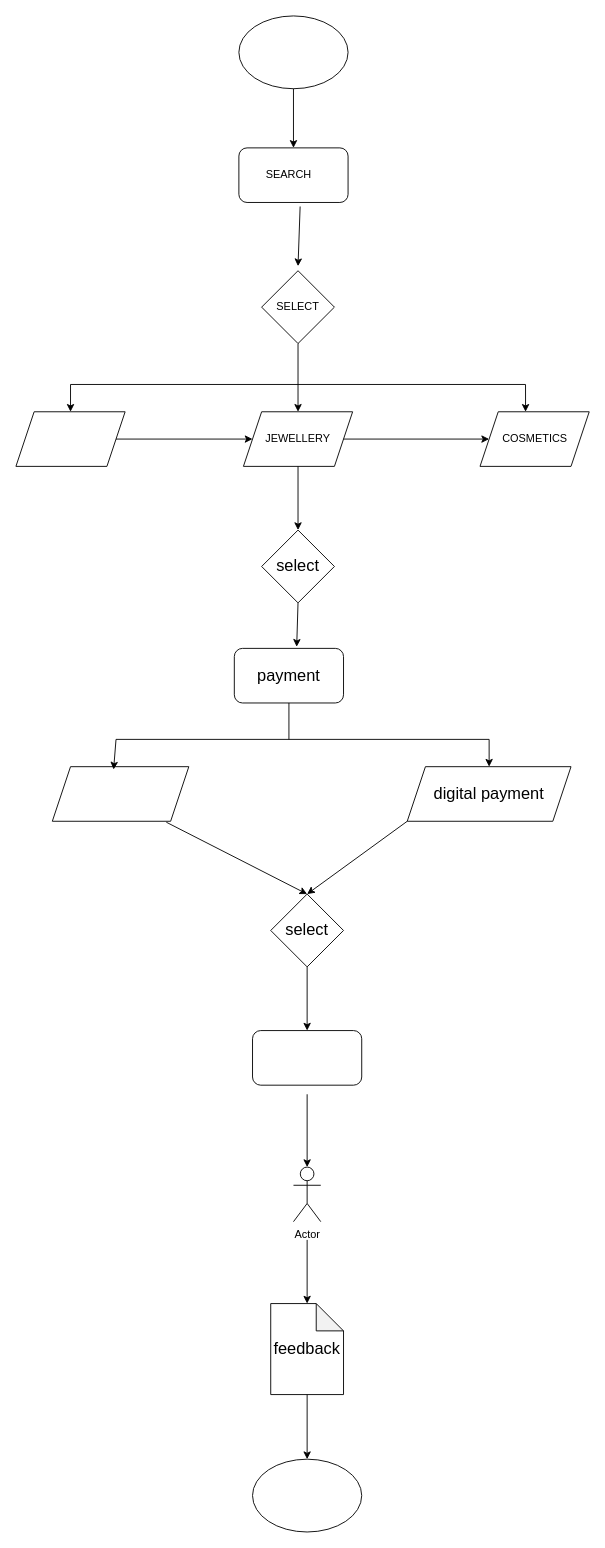
This 605x1548 diagram has some shape labels left out. Here are the shapes that lost their labels. From the top down, the centre of each, then its label:
At point (293, 52): "OPEN".
At point (70, 438): "CLOTHES".
At point (120, 793): "cash payment".
At point (307, 1057): "place order".
At point (307, 1495): "End".
